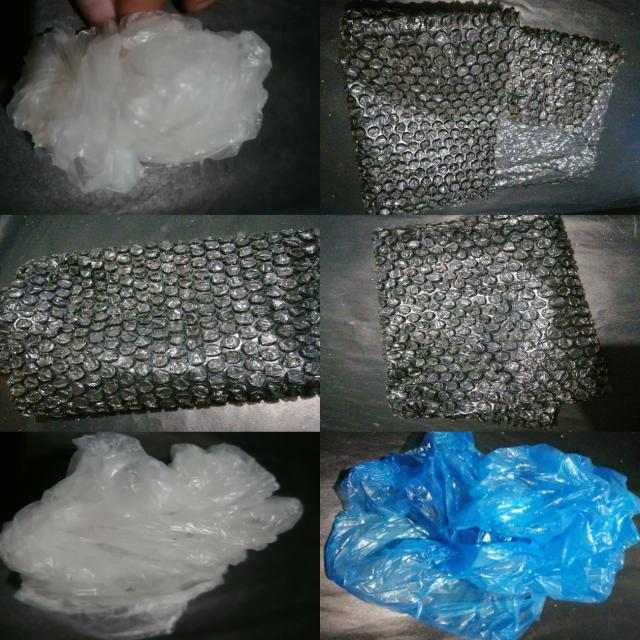plastik: (325, 433, 640, 640), (0, 433, 302, 640), (0, 228, 320, 417), (341, 4, 624, 213), (372, 215, 610, 428), (8, 12, 271, 193)
